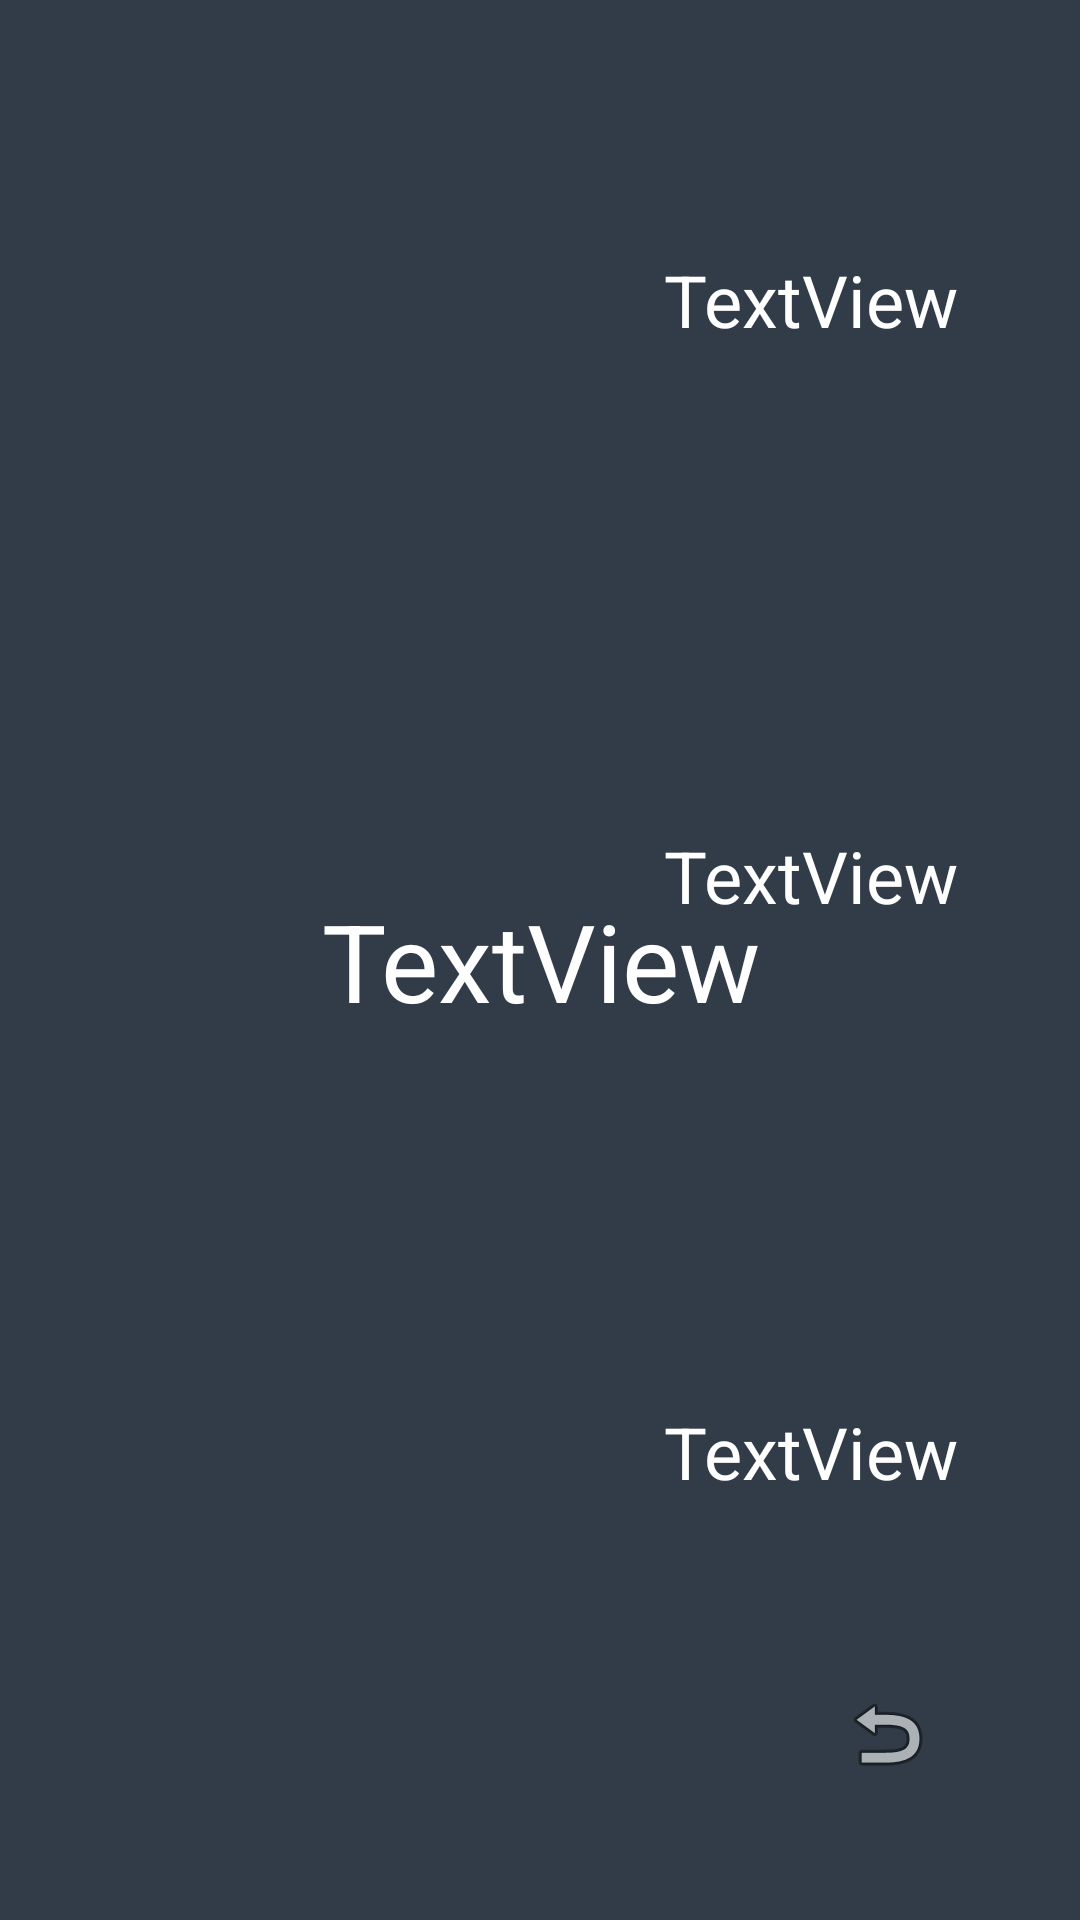

Icon bounding boxes for this 1080 x 1920 phone screenshot, format [x1=x1, y1=y1, x2=x2, y2=y2]:
revert: [x1=854, y1=1704, x2=922, y2=1765]
